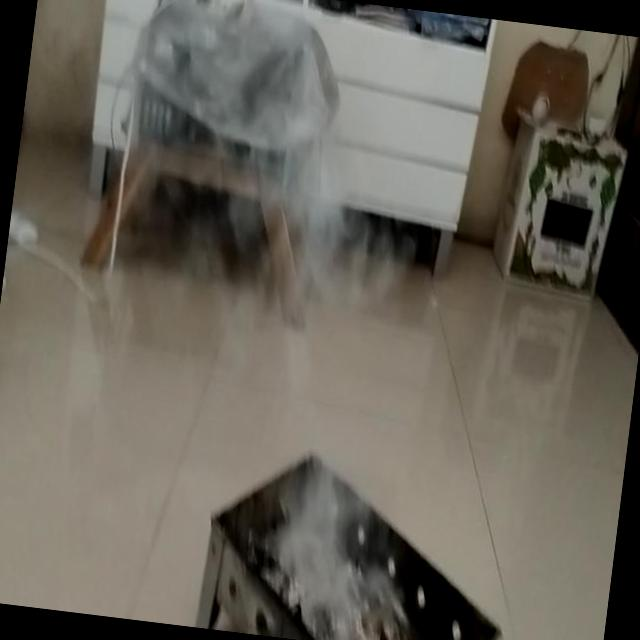smoke: (162, 14, 419, 616)
